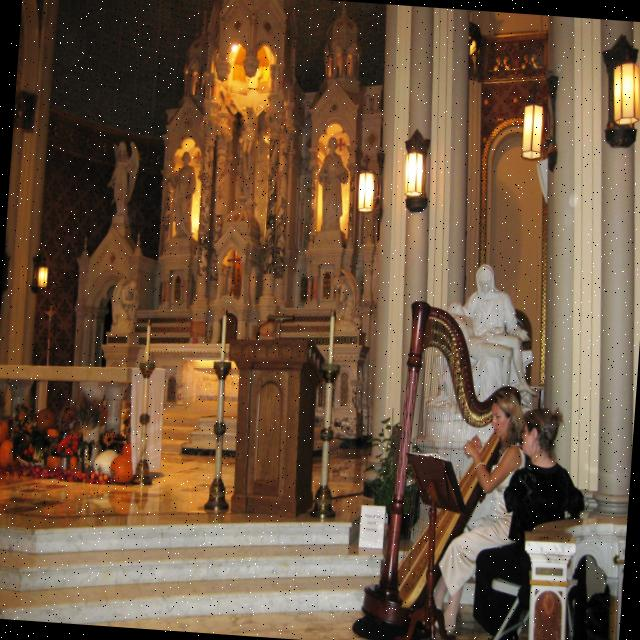harp: (354, 298, 529, 640)
